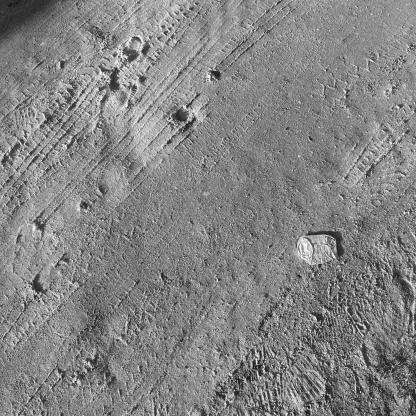metal: (296, 234, 338, 266)
